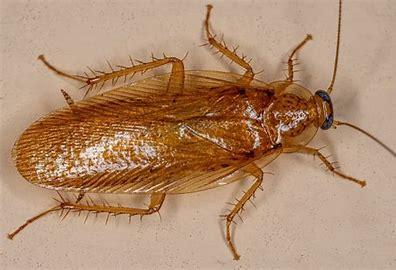cockroach: (0, 2, 396, 264)
